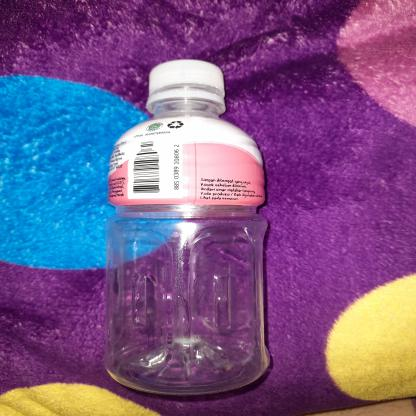bottle: (97, 59, 276, 400)
